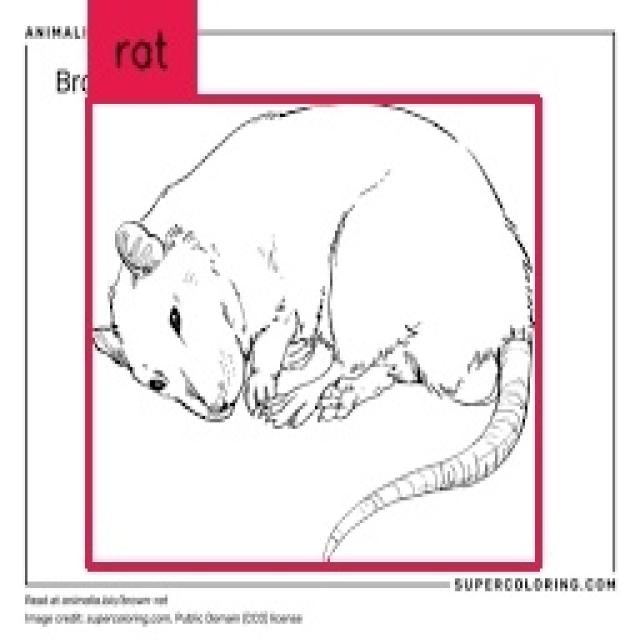rat: (89, 97, 539, 568)
